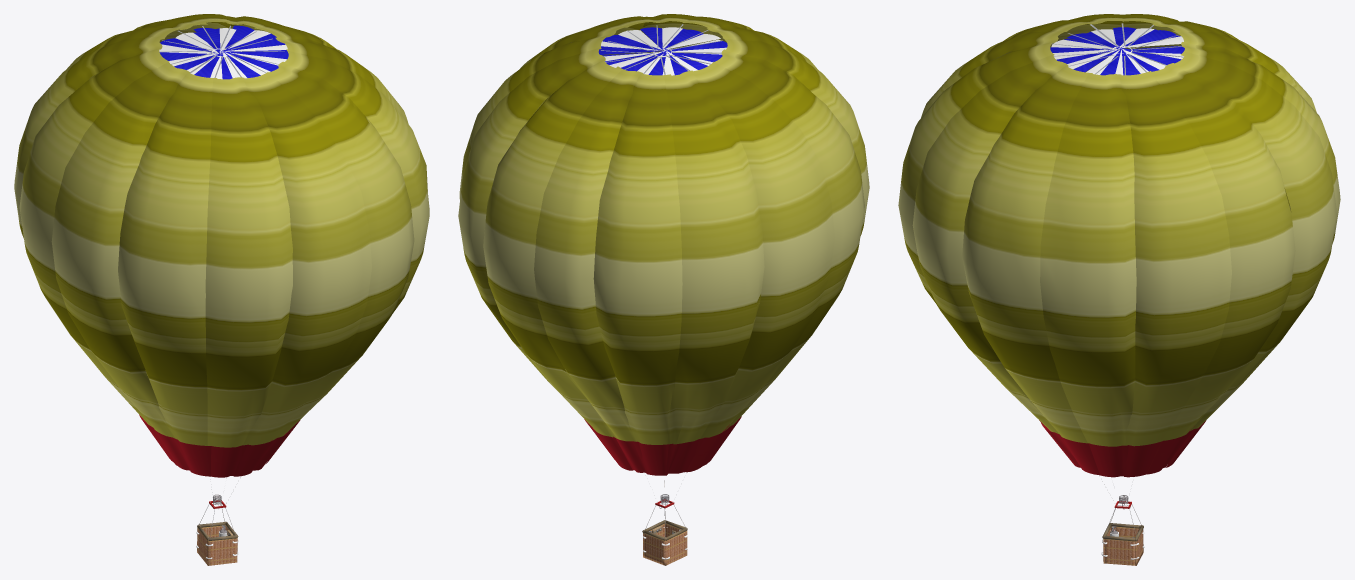
The model's file is balao6.gltf.
3 views of the same model, side by side, from view 1: azimuth 30°, elevation 25°; view 2: azimuth 150°, elevation 25°; view 3: azimuth 270°, elevation 25° (orthographic).
Visible parts, largest first — view 1: Object_9; view 2: Object_9; view 3: Object_9.
Boxes of the visible parts, x1,y1,x2,y2 form: Object_9: (14, 14, 429, 565); Object_9: (458, 14, 869, 565); Object_9: (898, 14, 1340, 565).
Bounding box in the file's own units: 0.1957 × 0.2725 × 0.2125.
Materials: 33 (17 with a texture image).
